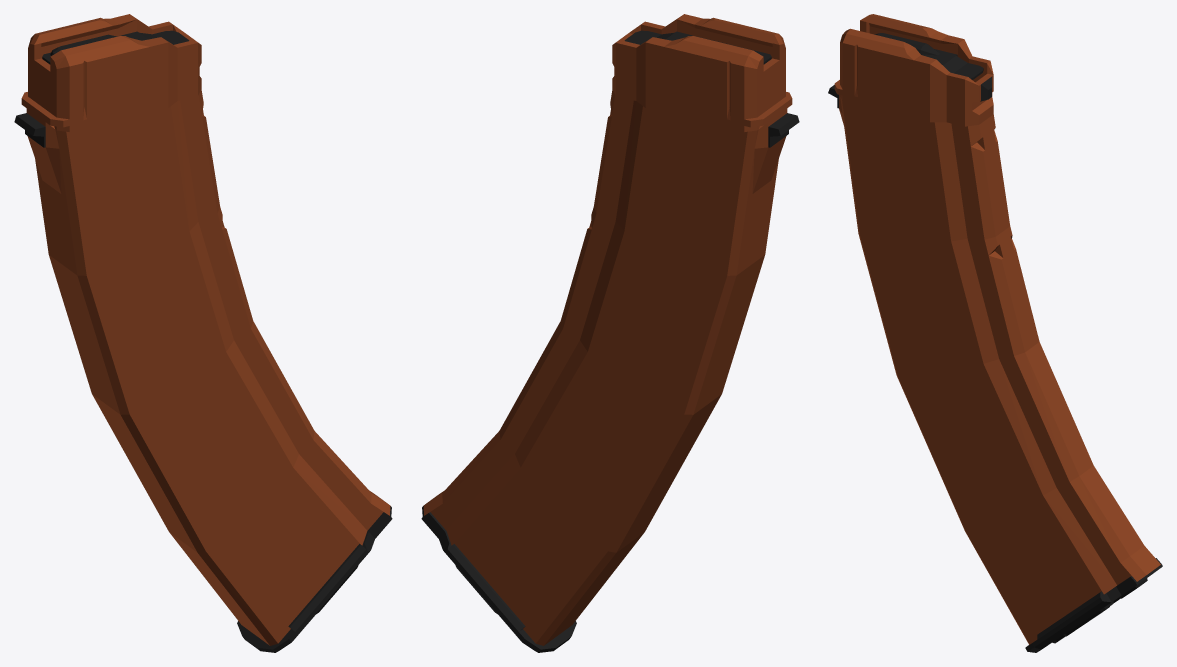
The model's file is rpk-74_magazine.glb.
3 renders of one model, left to right at view 1: azimuth 30°, elevation 25°; view 2: azimuth 150°, elevation 25°; view 3: azimuth 330°, elevation 25°, orthographic. The views are drawn at different scales.
Visible parts, largest first — view 1: ak74 45rnd empty bakelite mag_14 (×2); view 2: ak74 45rnd empty bakelite mag_14 (×2); view 3: ak74 45rnd empty bakelite mag_14 (×2).
Boxes of the visible parts, box(x1,y1,x2,y2) form: ak74 45rnd empty bakelite mag_14 (×2): box(14, 14, 392, 652); ak74 45rnd empty bakelite mag_14 (×2): box(421, 14, 799, 652); ak74 45rnd empty bakelite mag_14 (×2): box(828, 14, 1162, 652).
Bounding box in the file's own units: 1.55 × 2.68 × 0.3312.
